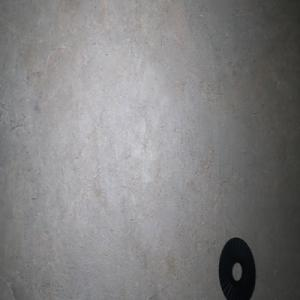Washer: (218, 237, 255, 300)
